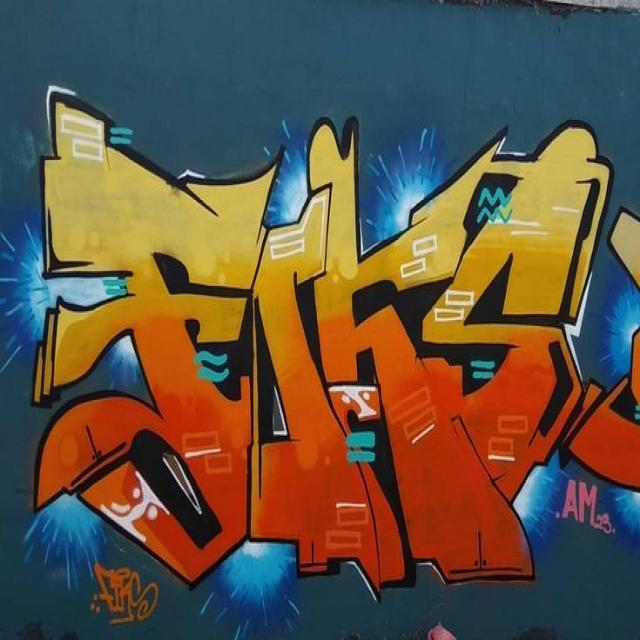-: (33, 85, 640, 594), (90, 566, 160, 623)
